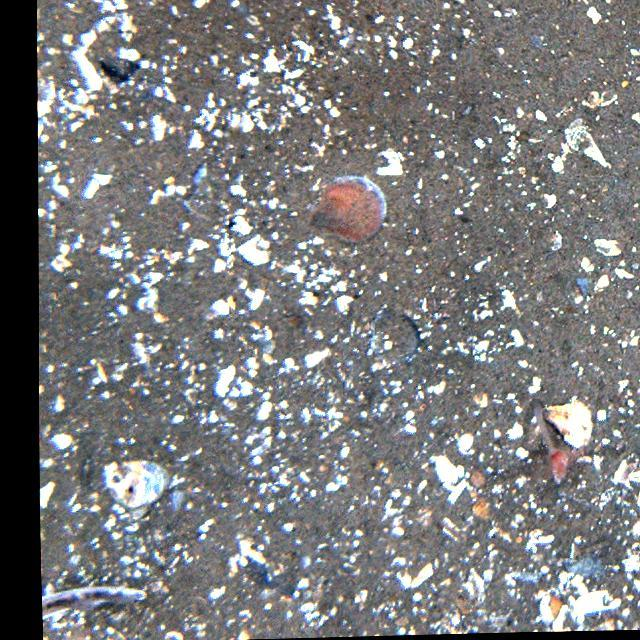skate: (39, 576, 150, 629)
